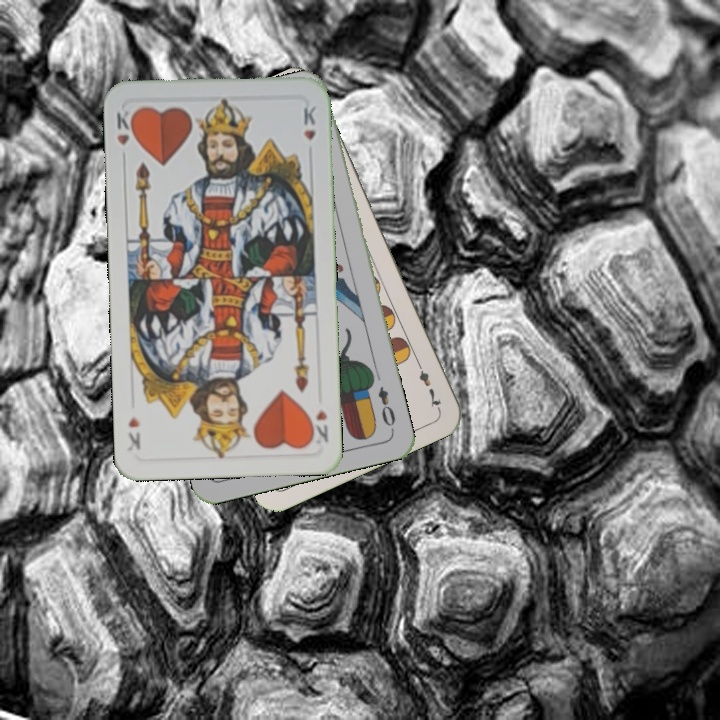E7: (412, 356, 443, 412)
EO: (374, 382, 398, 434)
HK: (112, 105, 138, 148), (306, 405, 332, 446)
